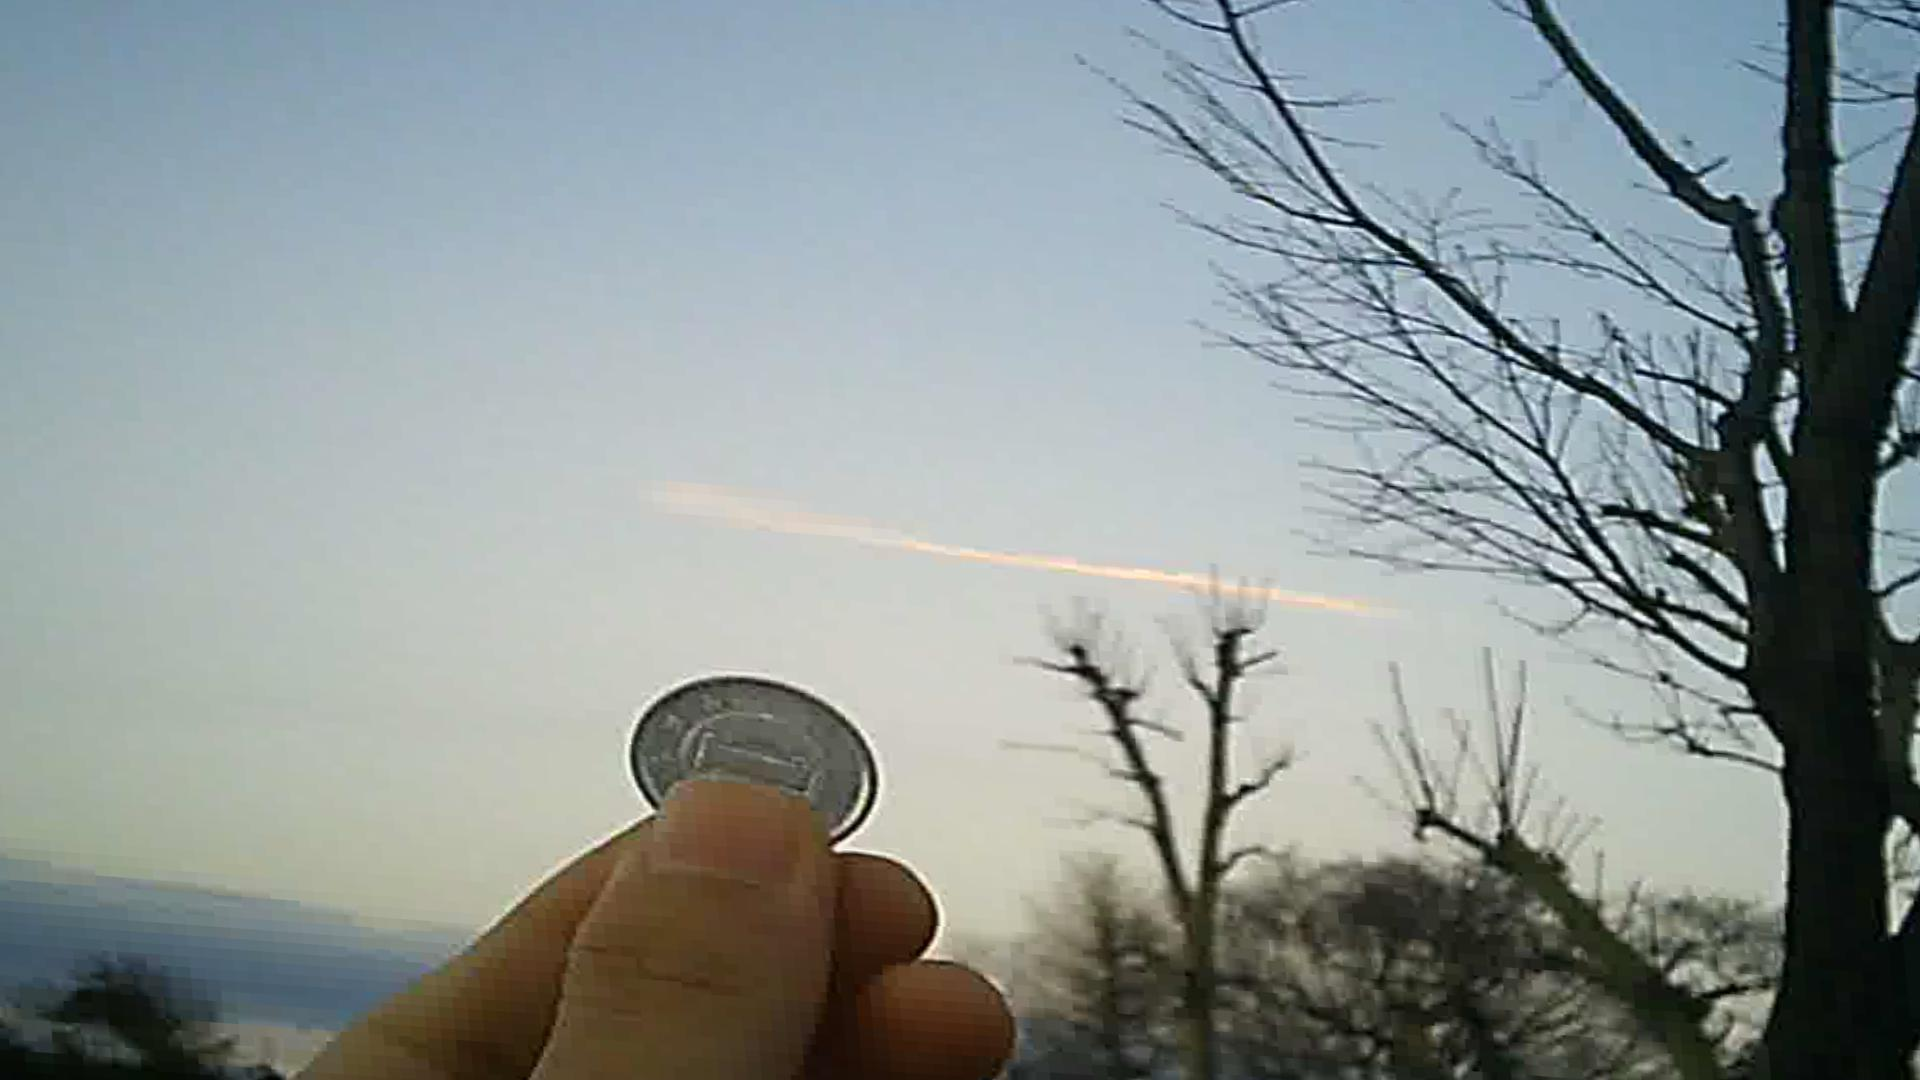1 Yen: (618, 665, 869, 843)
